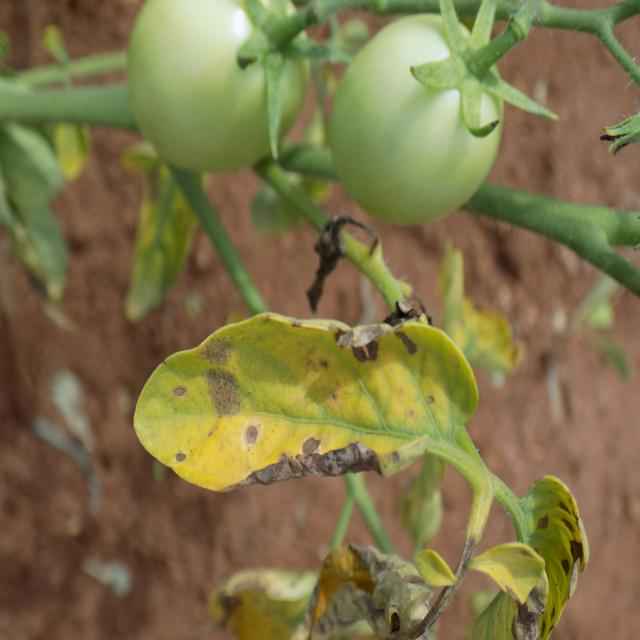tomato_early blight: (134, 310, 480, 493), (118, 131, 218, 318), (322, 527, 448, 640), (506, 474, 591, 640), (219, 558, 375, 640), (435, 254, 527, 381), (478, 527, 554, 610)
